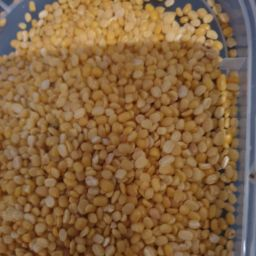Red Split Lentils(malka masar): (5, 8, 243, 256), (27, 17, 251, 158), (23, 55, 165, 256), (32, 109, 219, 256)
